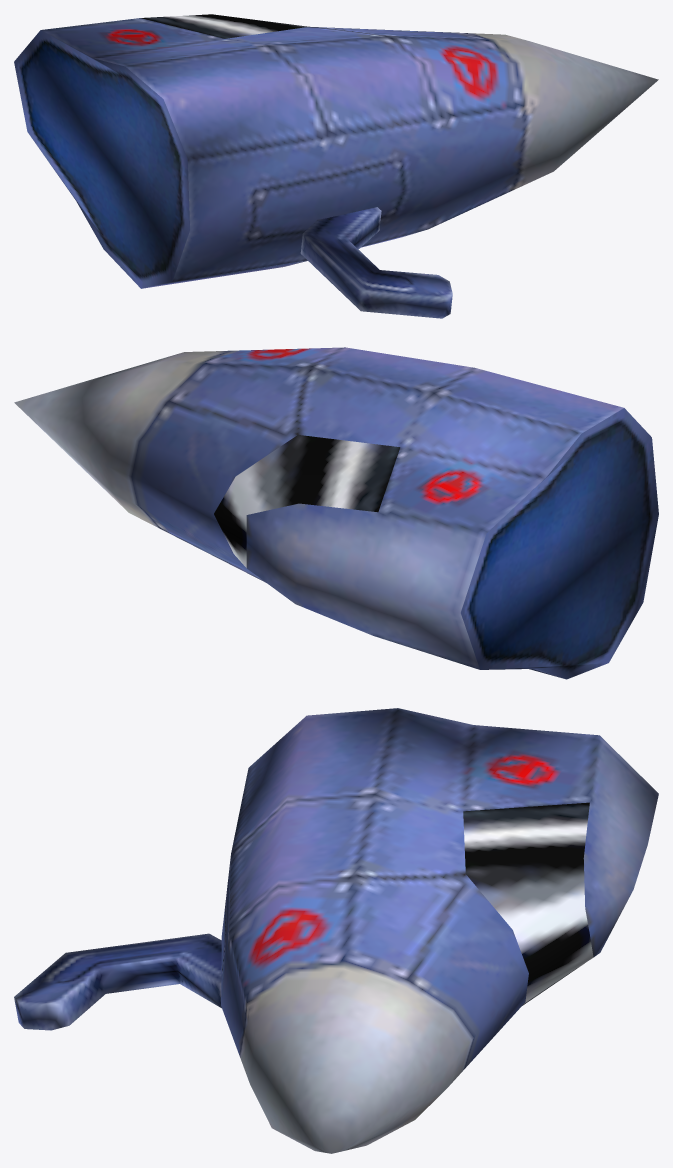
Rendered from Robot01.RightShoulder2.fbx.
3 views of the same model, one above another, from view 1: azimuth 30°, elevation 25°; view 2: azimuth 150°, elevation 25°; view 3: azimuth 270°, elevation 25° (orthographic). The views are drawn at different scales.
Visible parts, largest first — view 1: mesh_1027.001; view 2: mesh_1027.001; view 3: mesh_1027.001.
Boxes of the visible parts, left/top/right/bottom form: mesh_1027.001: left=14, top=14, right=658, bottom=318; mesh_1027.001: left=14, top=347, right=658, bottom=679; mesh_1027.001: left=14, top=708, right=658, bottom=1153.
Size of the model in its own units: 79.49 by 31.43 by 70.76.
